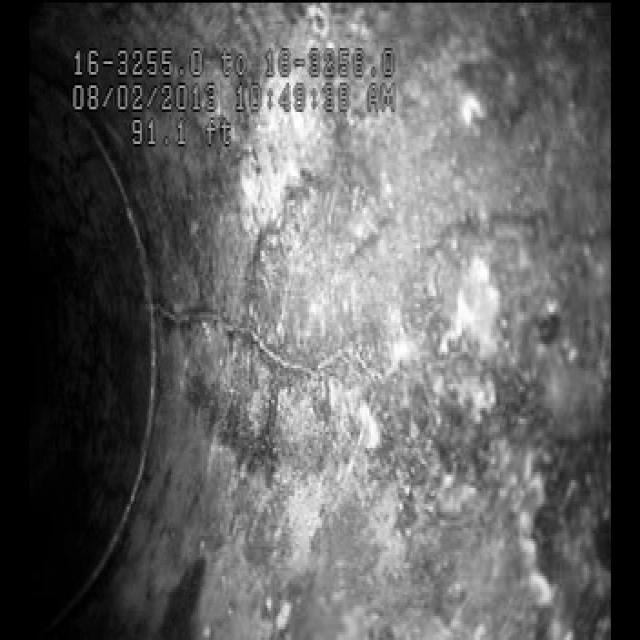Crack: (170, 248, 514, 438)
